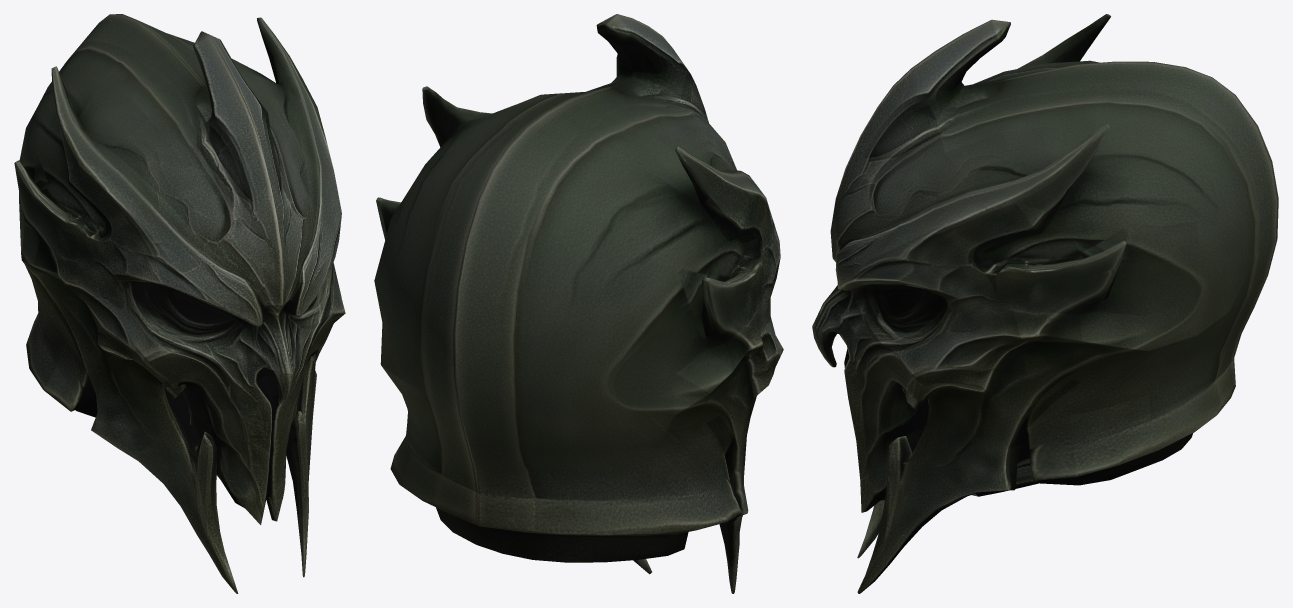
Rendered from dragonSkull.glb.
3 views of the same model, side by side, from view 1: azimuth 30°, elevation 25°; view 2: azimuth 150°, elevation 25°; view 3: azimuth 270°, elevation 25° (orthographic). The views are drawn at different scales.
Parts seen in each view (by area): view 1: tripo_node_74b322fe-461f-434b-b3ae-29da3d1d58b4; view 2: tripo_node_74b322fe-461f-434b-b3ae-29da3d1d58b4; view 3: tripo_node_74b322fe-461f-434b-b3ae-29da3d1d58b4.
Part boxes in pixels (x1,y1,x2,y2): tripo_node_74b322fe-461f-434b-b3ae-29da3d1d58b4: [14, 14, 345, 593]; tripo_node_74b322fe-461f-434b-b3ae-29da3d1d58b4: [374, 14, 783, 593]; tripo_node_74b322fe-461f-434b-b3ae-29da3d1d58b4: [812, 14, 1278, 593].
Size of the model in its own units: 1.06 by 1.88 by 1.43.
Materials: 1 (1 with a texture image).
